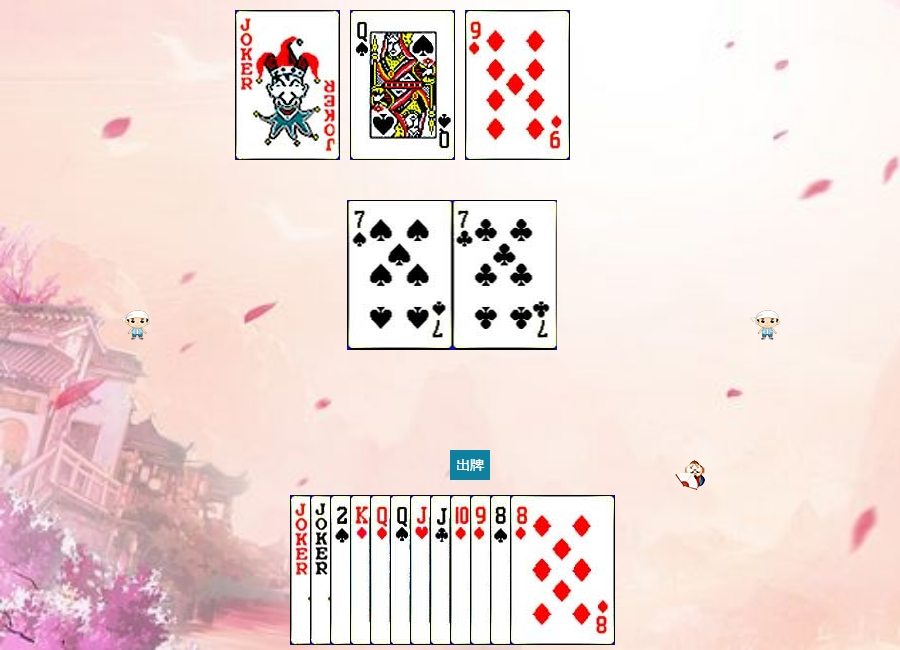10~1: (450, 495, 555, 645)
11~2: (430, 495, 535, 645)
11~3: (410, 495, 515, 645)
12~1: (370, 495, 475, 645)
12~4: (350, 10, 455, 160), (390, 495, 495, 645)
13~1: (350, 495, 455, 645)
15~4: (330, 495, 435, 645)
17~3: (310, 495, 415, 645)
18~4: (235, 10, 340, 160), (290, 495, 395, 645)
7~2: (453, 200, 558, 350)
7~4: (348, 200, 453, 350)
8~1: (510, 495, 615, 645)
8~4: (490, 495, 595, 645)
9~1: (465, 10, 570, 160), (470, 495, 575, 645)
